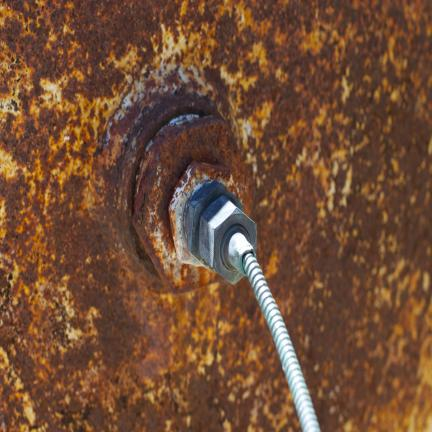besi_tidak_karat: (243, 254, 320, 431), (185, 181, 256, 284)
karat: (0, 0, 431, 431)
